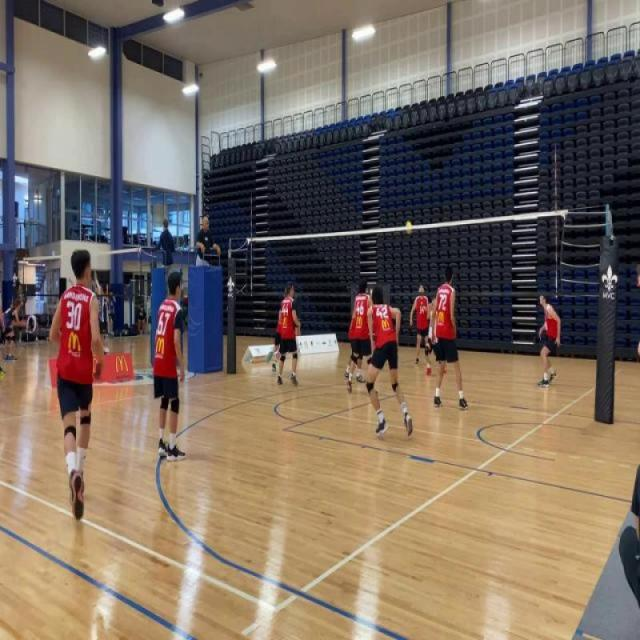volleyball: (404, 218, 414, 236)
